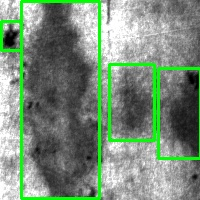inclusion: (1, 21, 21, 50)
patches: (21, 1, 99, 198), (158, 68, 200, 158), (109, 64, 154, 140)
